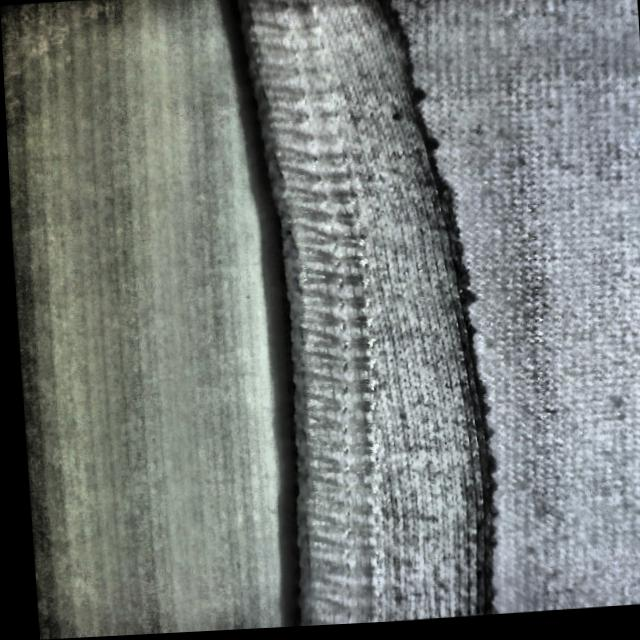seam: (248, 0, 573, 630)
